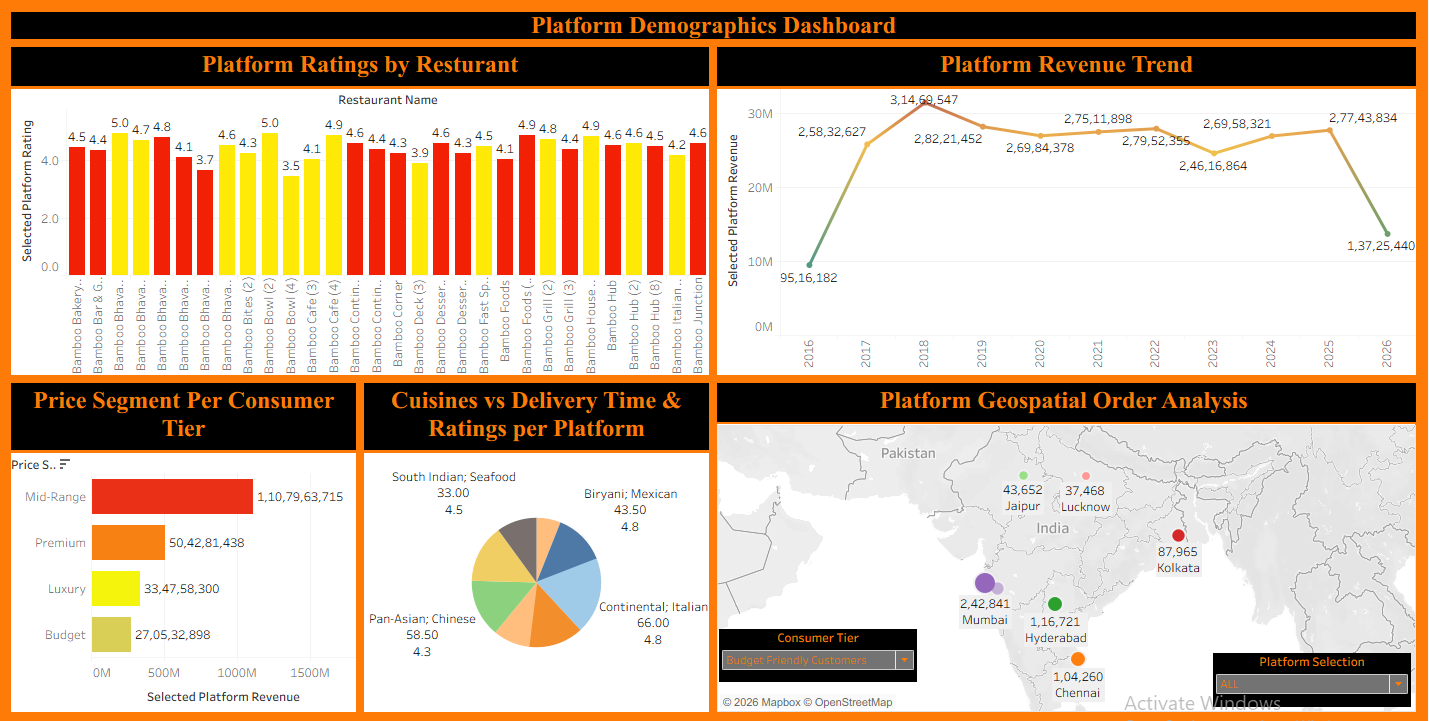

The page's visual inventory and layout, read from the dashboard file:
{"tool":"tableau","page":{"name":"Platform Demographics Dashboard","canvas":[1000,1000],"units":"permille","ordinal":1},"visuals":[{"type":"title","box":[5.8,11.1,988.5,48.3]},{"type":"worksheet","title":"Platform Ratings by Resturant","mark":"Automatic","rows":["Calculation_0562167625850883"],"cols":["Restaurant Name"],"box":[5.8,59.4,493.7,463.9]},{"type":"worksheet","title":"Platform Revenue Trend","mark":"Automatic","rows":["Calculation_0562167626235908"],"cols":["Listing Date"],"box":[499.4,59.4,494.8,464.8]},{"type":"worksheet","title":"Price Segment Per Consumer Tier","mark":"Automatic","rows":["Price Segment"],"cols":["Calculation_0562167626235908"],"box":[5.8,523.3,247,465.6]},{"type":"worksheet","title":"Cuisines vs Delivery Time & Ratings per Platform","mark":"Pie","box":[252.8,523.3,246.6,465.6]},{"type":"worksheet","title":"Platform Geospatial Order Analysis ","mark":"Automatic","box":[499.4,524.1,494.8,464.8]},{"type":"parameter","param":"[Parameters].[Parameter 1]","box":[503.9,868.2,138.5,74.3]},{"type":"parameter","param":"[Parameters].[Parameter 2]","box":[849.4,902,138.5,74.3]}]}

Visuals, with their boxes on the dashboard's canvas, which has no fixed pixel size, in thousandths of its width and height (x1, y1, x2, y2). These are canvas units, not pixel positions in the 1429x721 screenshot, which may show the page scaled, cropped or inside an application window:
title: [left=6, top=11, right=994, bottom=59]
"Platform Ratings by Resturant" worksheet: [left=6, top=59, right=500, bottom=523]
"Platform Revenue Trend" worksheet: [left=499, top=59, right=994, bottom=524]
"Price Segment Per Consumer Tier" worksheet: [left=6, top=523, right=253, bottom=989]
"Cuisines vs Delivery Time & Ratings per Platform" worksheet (Pie marks): [left=253, top=523, right=499, bottom=989]
"Platform Geospatial Order Analysis " worksheet: [left=499, top=524, right=994, bottom=989]
parameter: [left=504, top=868, right=642, bottom=942]
parameter: [left=849, top=902, right=988, bottom=976]
